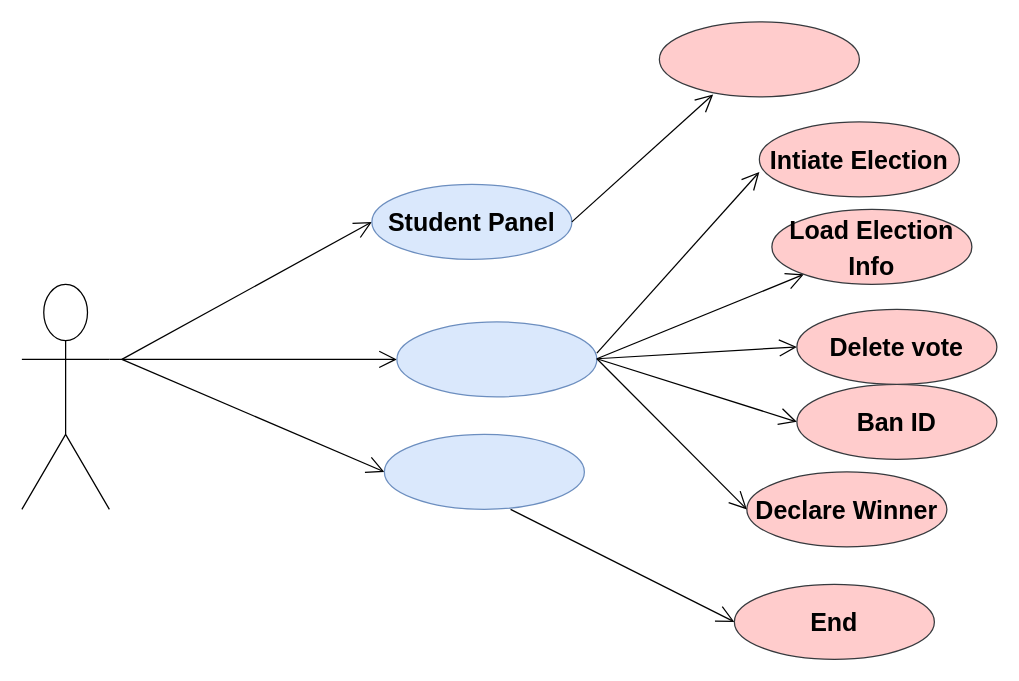
The diagram is 1019 pixels wide and 681 high, and some of its shapes have lost their labels. The shapes that lost their labels are listed below. From the top down, each one's box as (x1, y1, x2, y2) in pixels, then its label:
(658, 21, 859, 97): Vote
(396, 321, 597, 397): Admin Panel
(21, 283, 109, 509): User
(383, 433, 584, 509): Exit
